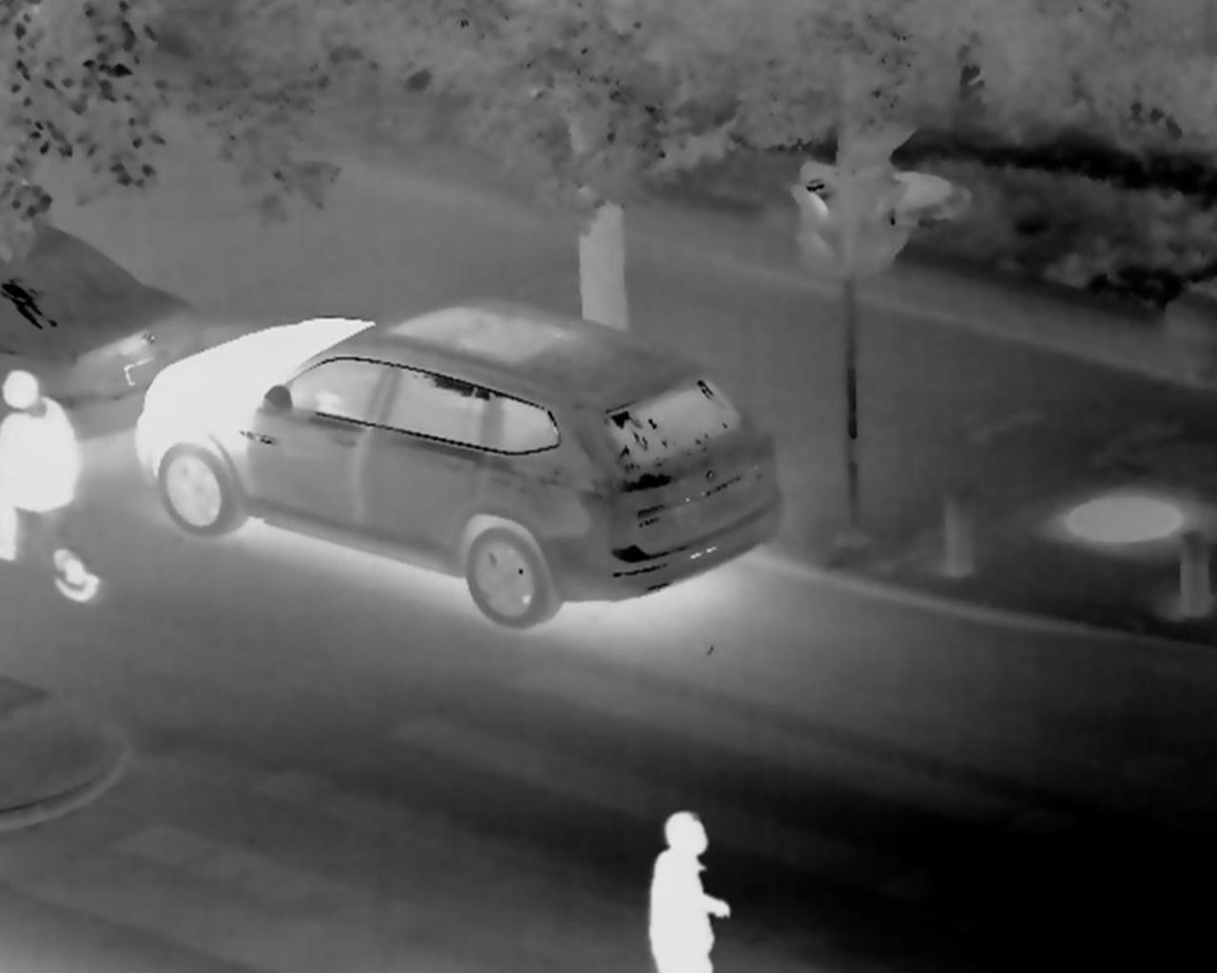person: (643, 809, 729, 973)
